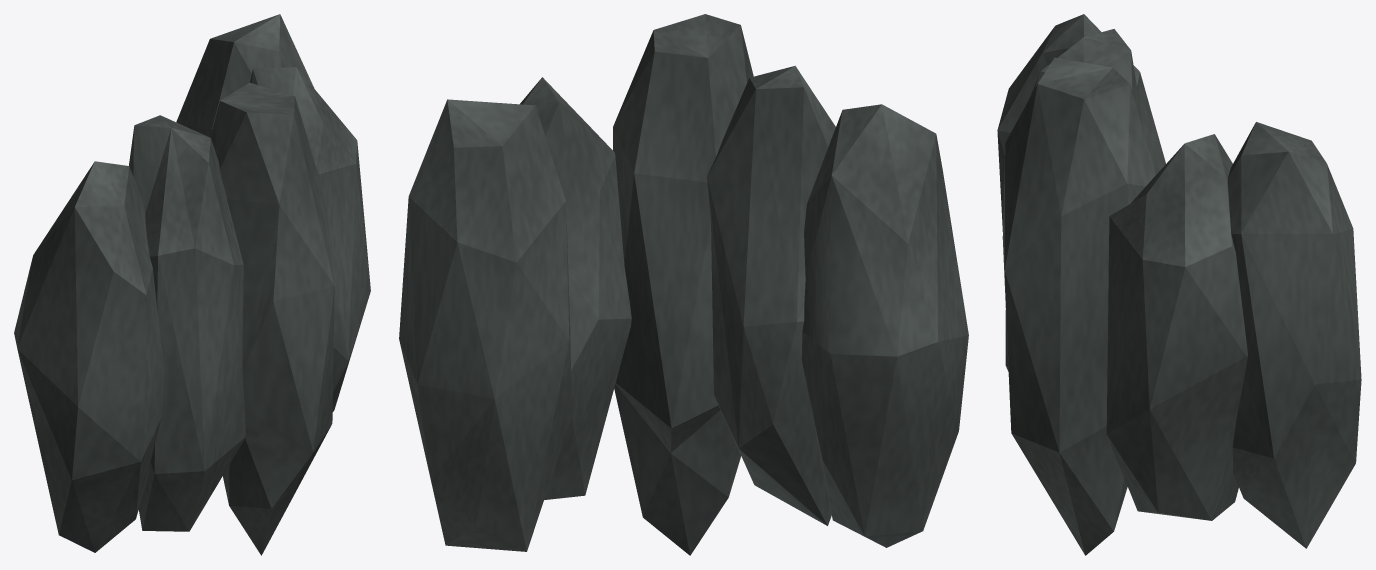
File: rocks.cliff_corner.lod1.glb
3 views of the same model, side by side, from view 1: azimuth 30°, elevation 25°; view 2: azimuth 150°, elevation 25°; view 3: azimuth 270°, elevation 25° (orthographic). The views are drawn at different scales.
Visible parts, largest first — view 1: Cliff, Cliff.002, Cliff.001, Cliff.003, Cliff.004; view 2: Cliff.004, Cliff, Cliff.002, Cliff.001, Cliff.003; view 3: Cliff.002, Cliff.003, Cliff.004, Cliff, Cliff.001.
Part boxes in pixels (bbox=[...]): Cliff: bbox=[14, 161, 164, 552]; Cliff.002: bbox=[210, 82, 334, 555]; Cliff.001: bbox=[129, 115, 245, 531]; Cliff.003: bbox=[249, 67, 370, 411]; Cliff.004: bbox=[176, 14, 314, 137]; Cliff.004: bbox=[399, 99, 572, 551]; Cliff: bbox=[801, 104, 968, 547]; Cliff.002: bbox=[613, 14, 753, 555]; Cliff.001: bbox=[707, 65, 835, 525]; Cliff.003: bbox=[520, 77, 631, 499]; Cliff.002: bbox=[1002, 57, 1155, 555]; Cliff.003: bbox=[1106, 134, 1247, 520]; Cliff.004: bbox=[1227, 122, 1361, 548]; Cliff: bbox=[997, 14, 1165, 231]; Cliff.001: bbox=[1005, 29, 1143, 371].
Size of the model in its own units: 10.47 by 12.2 by 8.33.
1 material, 1 textured.
